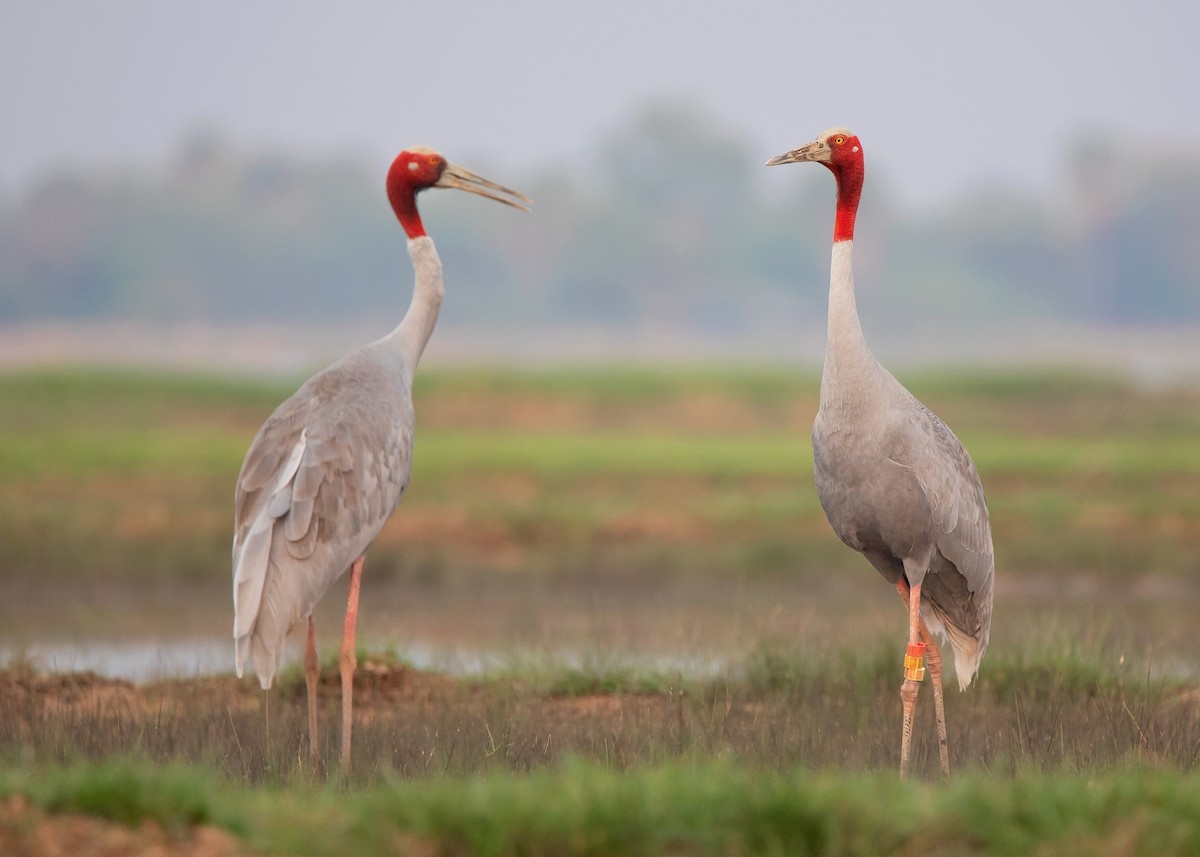crane: (218, 136, 539, 751), (756, 120, 1016, 770)
